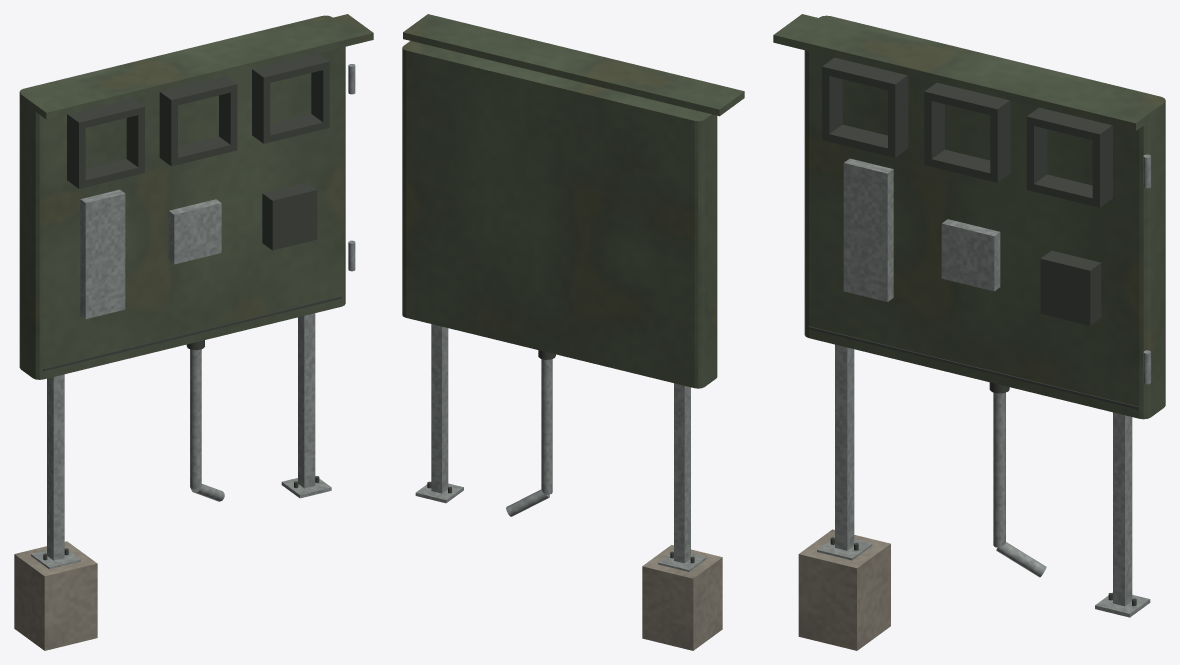
Rendered from SM_SubstationField_TestFixture.glb.
3 views of the same model, side by side, from view 1: azimuth 30°, elevation 25°; view 2: azimuth 150°, elevation 25°; view 3: azimuth 330°, elevation 25° (orthographic). The views are drawn at different scales.
Parts seen in each view (by area): view 1: SM_SubstationField_TestFixture; view 2: SM_SubstationField_TestFixture; view 3: SM_SubstationField_TestFixture.
Part boxes in pixels (x1,y1,x2,y2): SM_SubstationField_TestFixture: (14,14,373,650); SM_SubstationField_TestFixture: (402,14,744,650); SM_SubstationField_TestFixture: (773,14,1165,650).
Bounding box in the file's own units: 1.24 × 1.99 × 0.28.
Materials: 4 (3 with a texture image).
